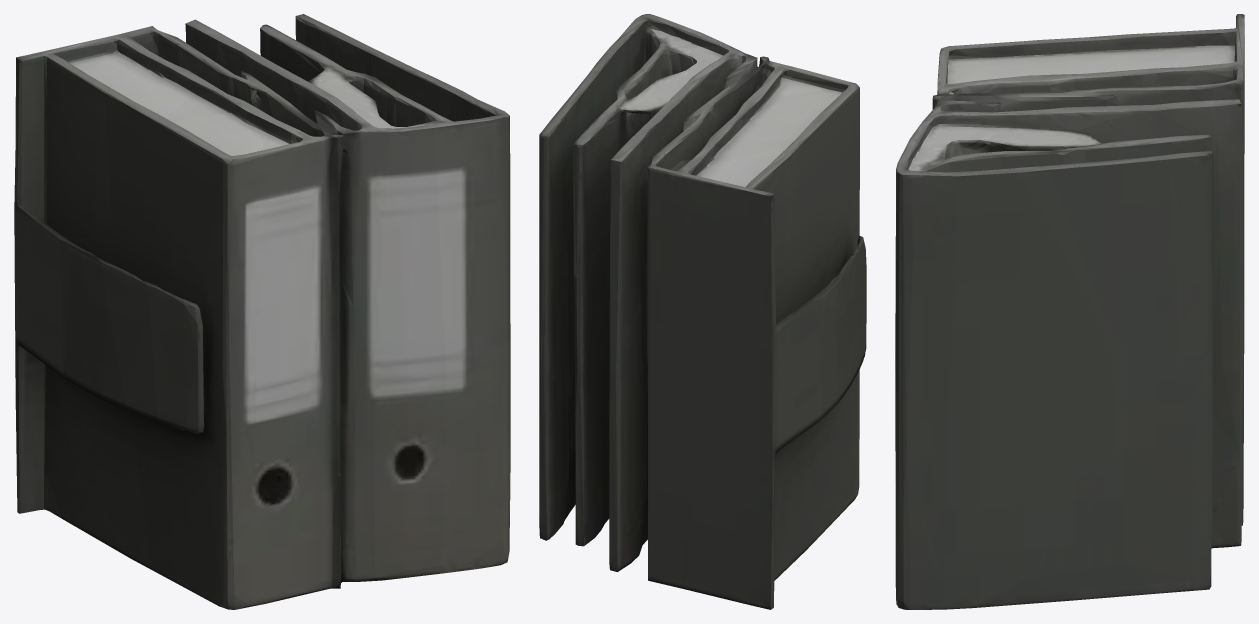
File: desk_binders.glb
3 views of the same model, side by side, from view 1: azimuth 30°, elevation 25°; view 2: azimuth 150°, elevation 25°; view 3: azimuth 270°, elevation 25° (orthographic). The views are drawn at different scales.
Parts seen in each view (by area): view 1: geometry_0; view 2: geometry_0; view 3: geometry_0.
Boxes of the visible parts, <box> form: geometry_0: <box>14,14,510,609</box>; geometry_0: <box>539,14,866,609</box>; geometry_0: <box>895,14,1244,609</box>.
Size of the model in its own units: 0.3633 by 0.4886 by 0.3462.
1 material, 1 textured.
